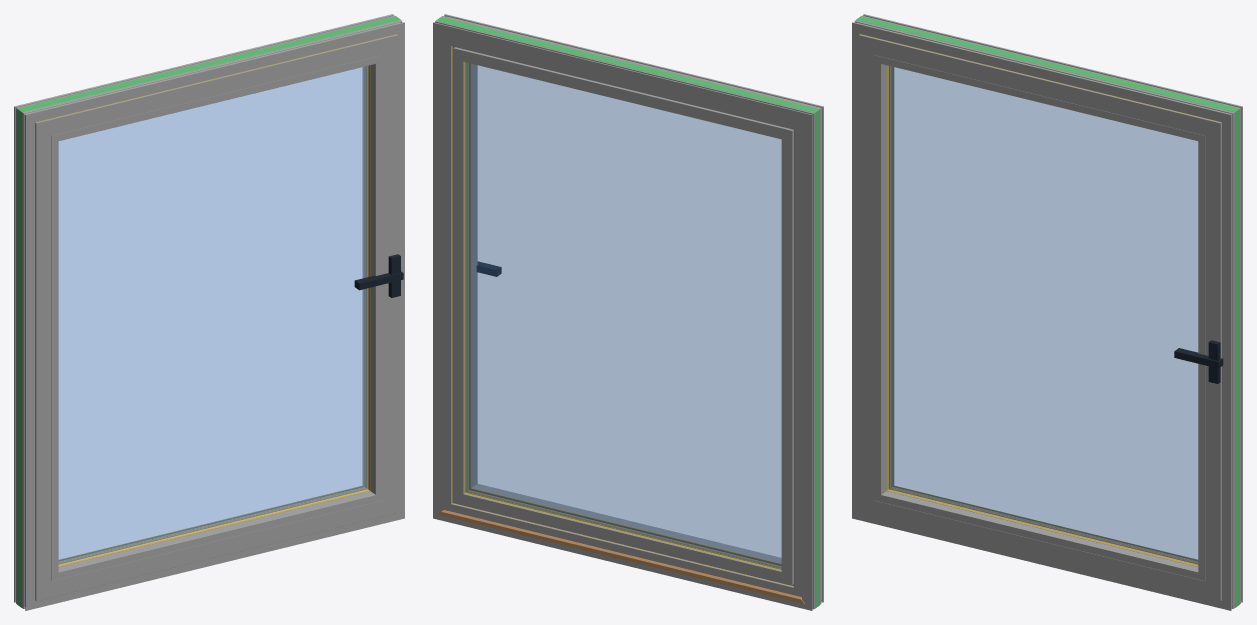
File: 2_4_Oeffnungselemnt_Vertikal-1.2x1.5-batant-right-handle-90429ff2a620.glb
3 views of the same model, side by side, from view 1: azimuth 30°, elevation 25°; view 2: azimuth 150°, elevation 25°; view 3: azimuth 330°, elevation 25° (orthographic).
Visible parts, largest first — view 1: Configured window; view 2: Configured window; view 3: Configured window.
Part boxes in pixels (x1,y1,x2,y2): Configured window: (14,14,404,610); Configured window: (433,14,823,610); Configured window: (852,14,1242,610).
Size of the model in its own units: 1.2 by 1.5 by 0.102.
